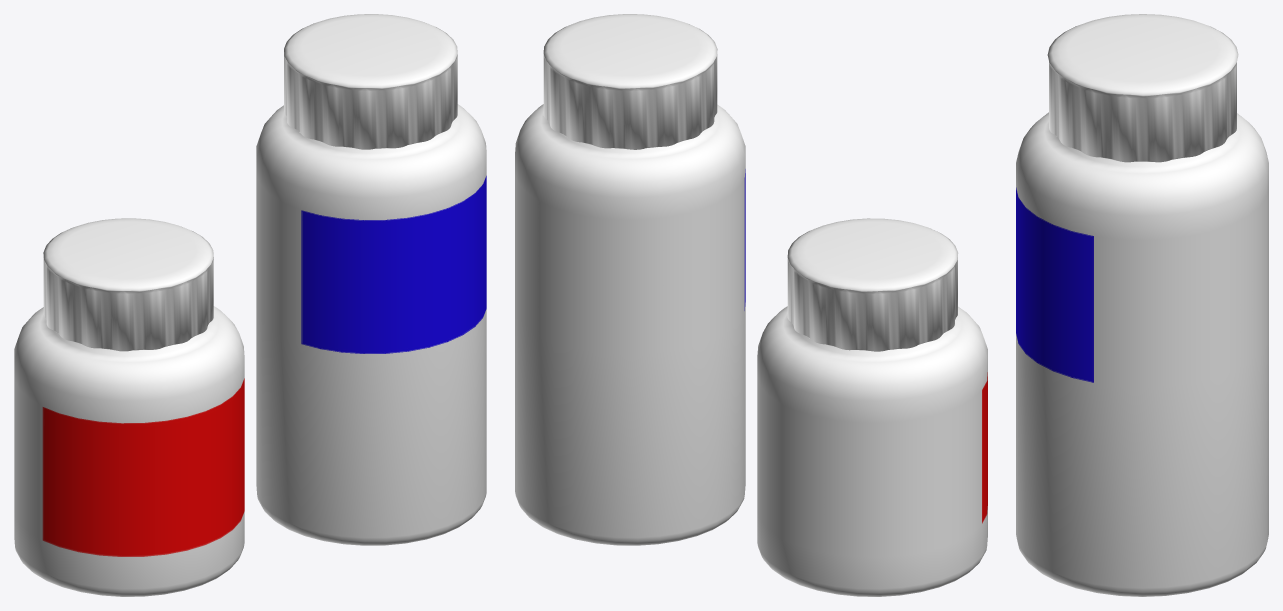
The model's file is Medication1.fbx.
3 renders of one model, left to right at view 1: azimuth 30°, elevation 25°; view 2: azimuth 150°, elevation 25°; view 3: azimuth 270°, elevation 25°, orthographic. The views are drawn at different scales.
Visible parts, largest first — view 1: Cylinder; view 2: Cylinder; view 3: Cylinder.
Boxes of the visible parts, box(x1,y1,x2,y2) form: Cylinder: box(14, 14, 486, 596); Cylinder: box(515, 14, 987, 596); Cylinder: box(1016, 14, 1268, 596).
Size of the model in its own units: 157 by 155 by 71.18.
Materials: 1 (1 with a texture image).
